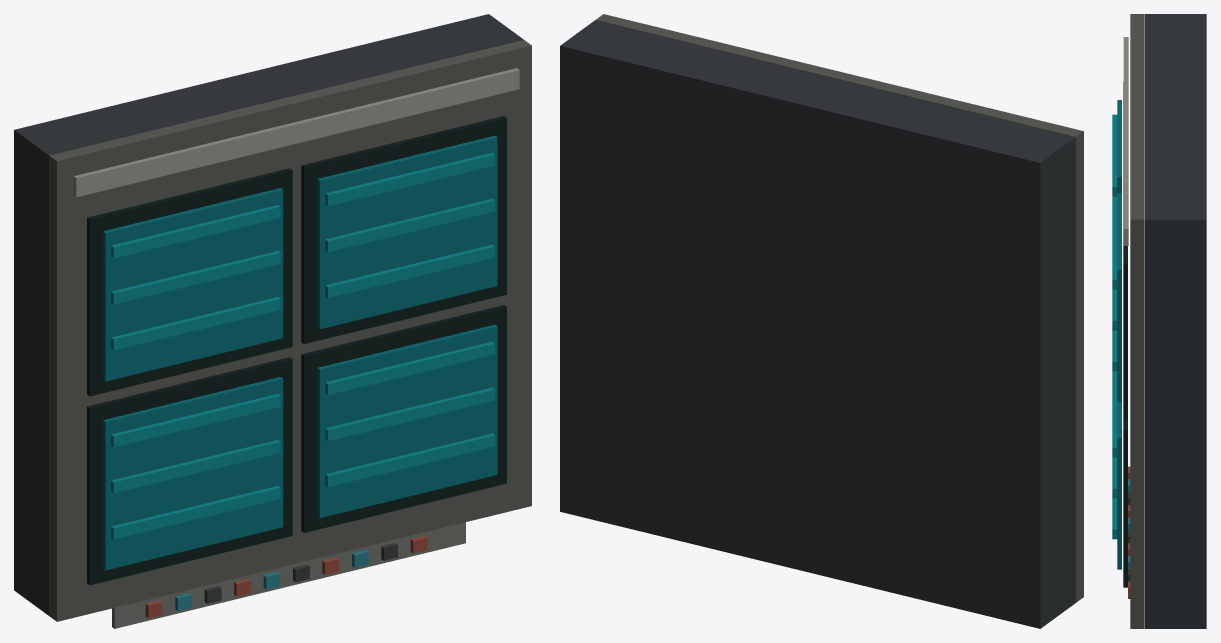
The model's file is CMU3DBlueQuadSplitMonitor.glb.
3 views of the same model, side by side, from view 1: azimuth 30°, elevation 25°; view 2: azimuth 150°, elevation 25°; view 3: azimuth 270°, elevation 25° (orthographic). The views are drawn at different scales.
Parts seen in each view (by area): view 1: cyan monitor glass (×4), monitor front bezel, screen black border (×4), wall monitor rear housing, horizontal monitor scan band (×12), upper monitor silver strip, lower control rail; view 2: wall monitor rear housing, monitor front bezel; view 3: wall monitor rear housing, monitor front bezel, horizontal monitor scan band (×7), cyan monitor glass (×3), screen black border (×2), upper monitor silver strip.
Boxes of the visible parts, x1,y1,x2,y2 form: cyan monitor glass (×4): [103, 135, 497, 570]; monitor front bezel: [49, 39, 531, 621]; screen black border (×4): [87, 116, 506, 585]; wall monitor rear housing: [14, 14, 523, 615]; horizontal monitor scan band (×12): [111, 152, 495, 539]; upper monitor silver strip: [73, 68, 519, 197]; lower control rail: [112, 522, 465, 628]; wall monitor rear housing: [560, 20, 1075, 628]; monitor front bezel: [596, 14, 1083, 602]; wall monitor rear housing: [1144, 14, 1206, 628]; monitor front bezel: [1130, 14, 1144, 628]; horizontal monitor scan band (×7): [1112, 114, 1117, 539]; cyan monitor glass (×3): [1117, 100, 1121, 569]; screen black border (×2): [1123, 175, 1127, 587]; upper monitor silver strip: [1123, 37, 1128, 245].
Size of the model in its own units: 0.906 by 0.886 by 0.175.
